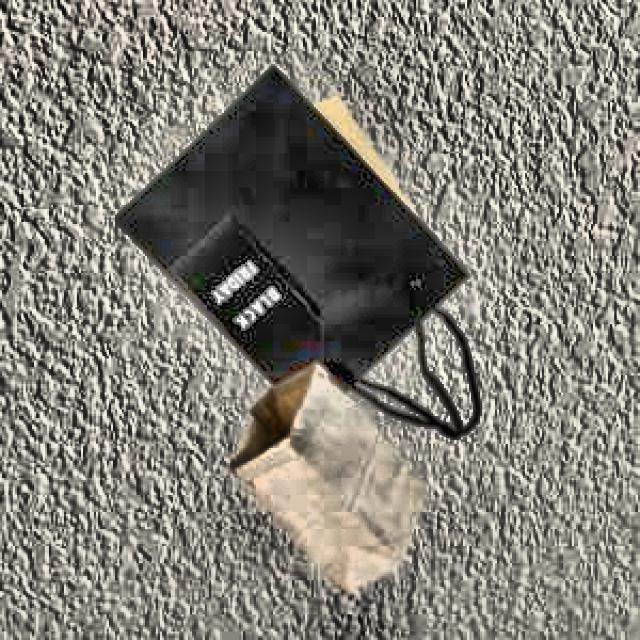Paper-bag: (124, 60, 499, 438), (236, 368, 435, 600)
